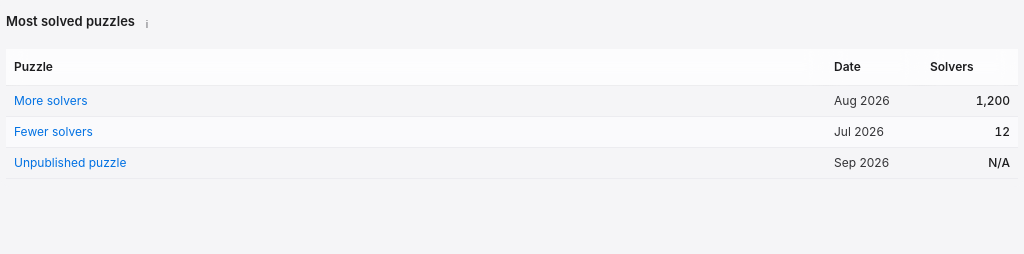
Scenario: MostSolvedPuzzlesTable › sorts published counts first and explains unpublished counts as N/A
Check: the cell "1,200" is shown, box [922,86,1018,116]
Check: the cell "12" is shown, box [922,116,1018,148]
Focus the text named "N/A: Solver list not published": (999, 163) [988,154,1010,172]
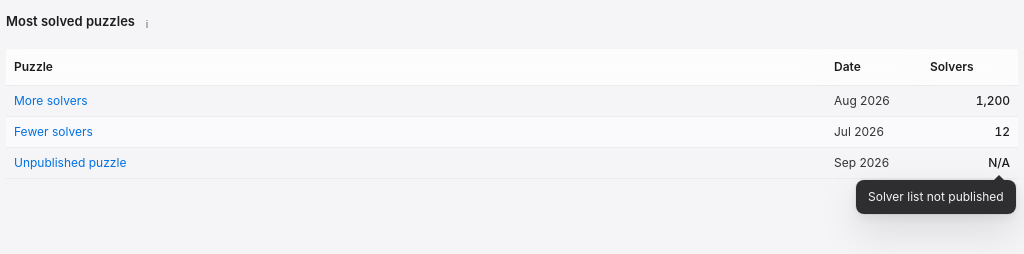
Check: the tooltip reads "Solver list not published", box [868,189,1004,204]
Leave the text named "N/A: Solver list not published", box [988,154,1010,172]
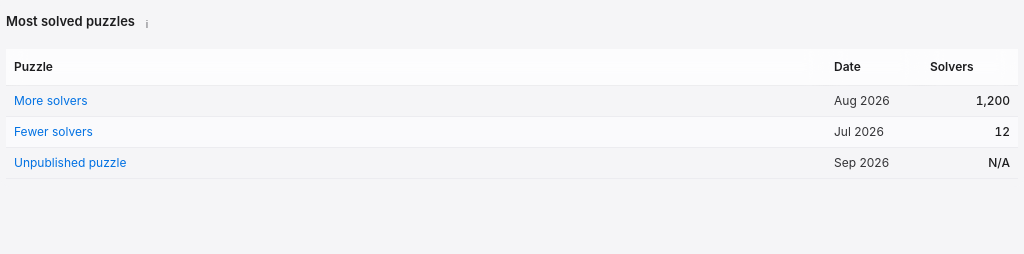
Check: the link "Unpublished puzzle" is shown, box [14,155,126,170]
Check: the tooltip "Solver list not published" is gone
